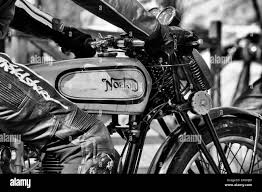motorcycle: (1, 1, 262, 192)
